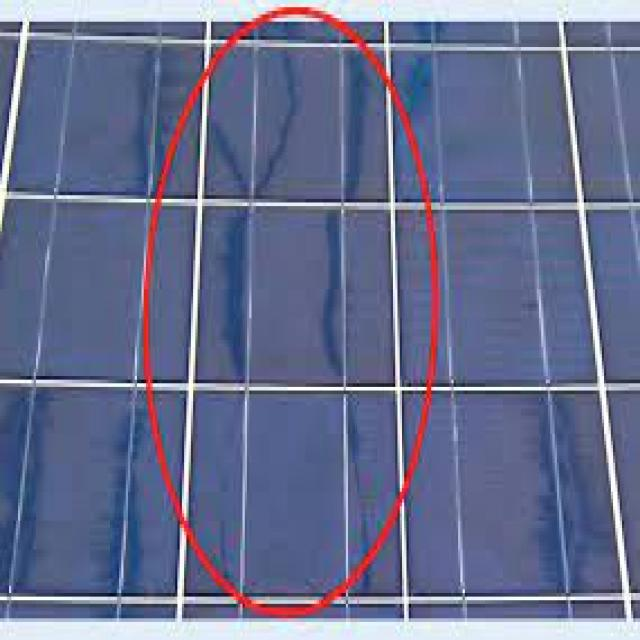faulty: (27, 5, 636, 621)
